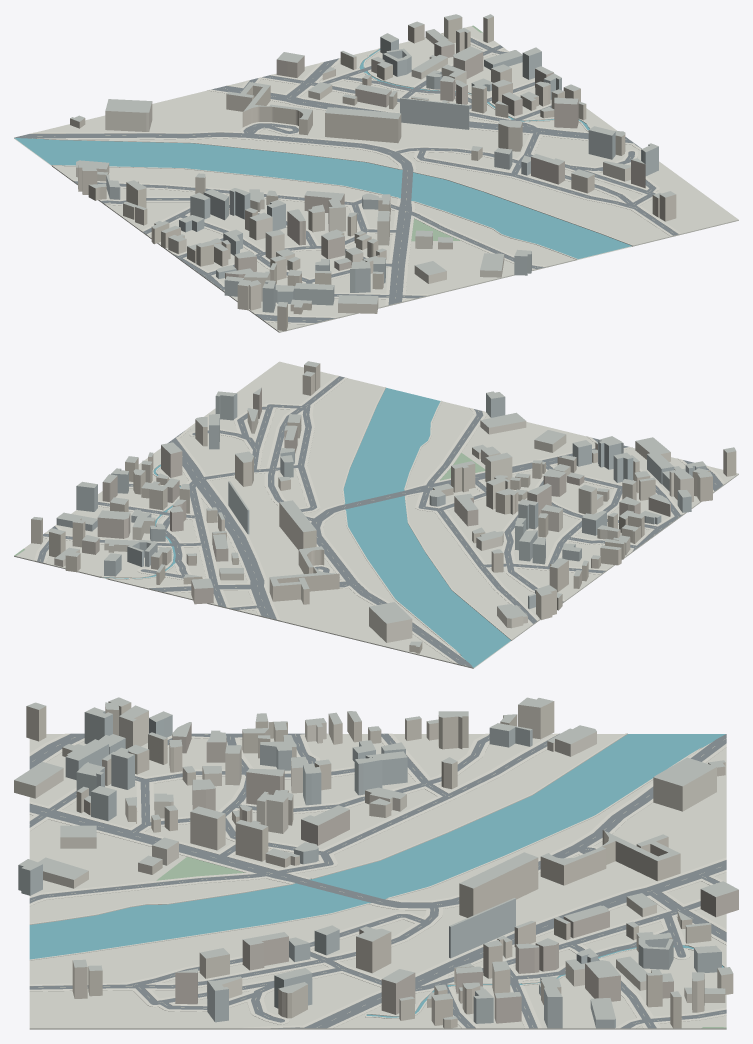
3 views of the same model, one above another, from view 1: azimuth 30°, elevation 25°; view 2: azimuth 150°, elevation 25°; view 3: azimuth 270°, elevation 25° (orthographic). The views are drawn at different scales.
Parts seen in each view (by area): view 1: city; view 2: city; view 3: city.
Part boxes in pixels (bbox=[...]): city: bbox=[14, 14, 738, 332]; city: bbox=[14, 361, 738, 668]; city: bbox=[14, 697, 738, 1029].
Size of the model in its own units: 509 by 26 by 520.
